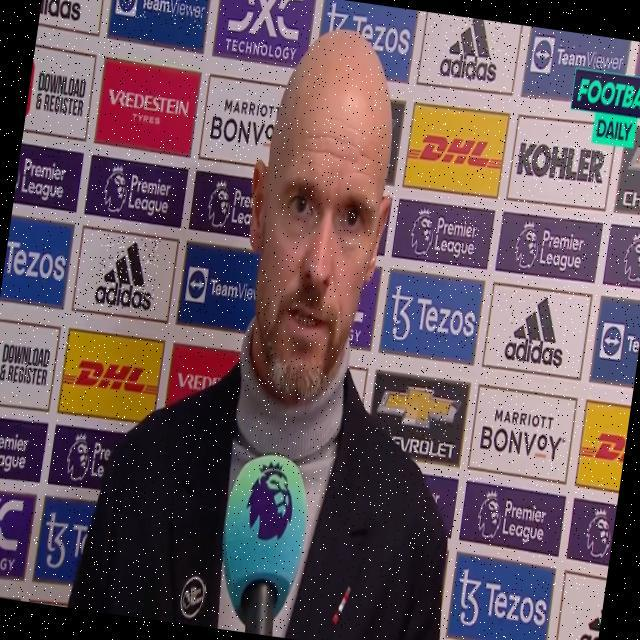Adidas: (503, 290, 573, 370), (93, 233, 161, 313), (438, 15, 504, 86)
Chevrolet: (373, 376, 464, 463)
Kohler: (515, 139, 609, 188)
TeamViewer: (531, 35, 626, 84), (115, 0, 208, 29)
